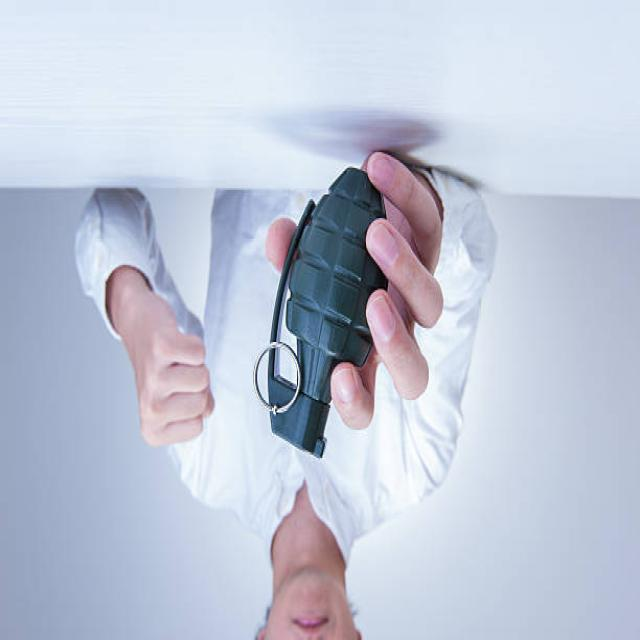grenade: (254, 170, 389, 463)
